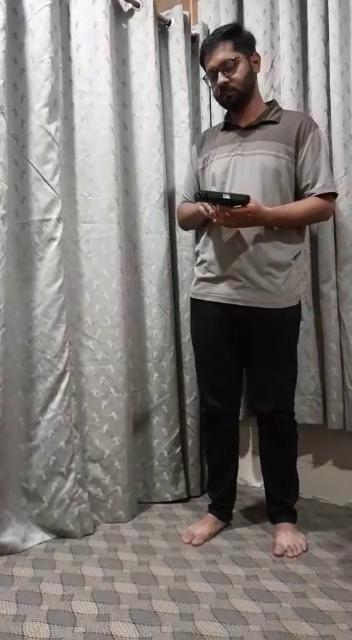criminal: (172, 20, 352, 561)
weapon: (189, 186, 255, 218)
